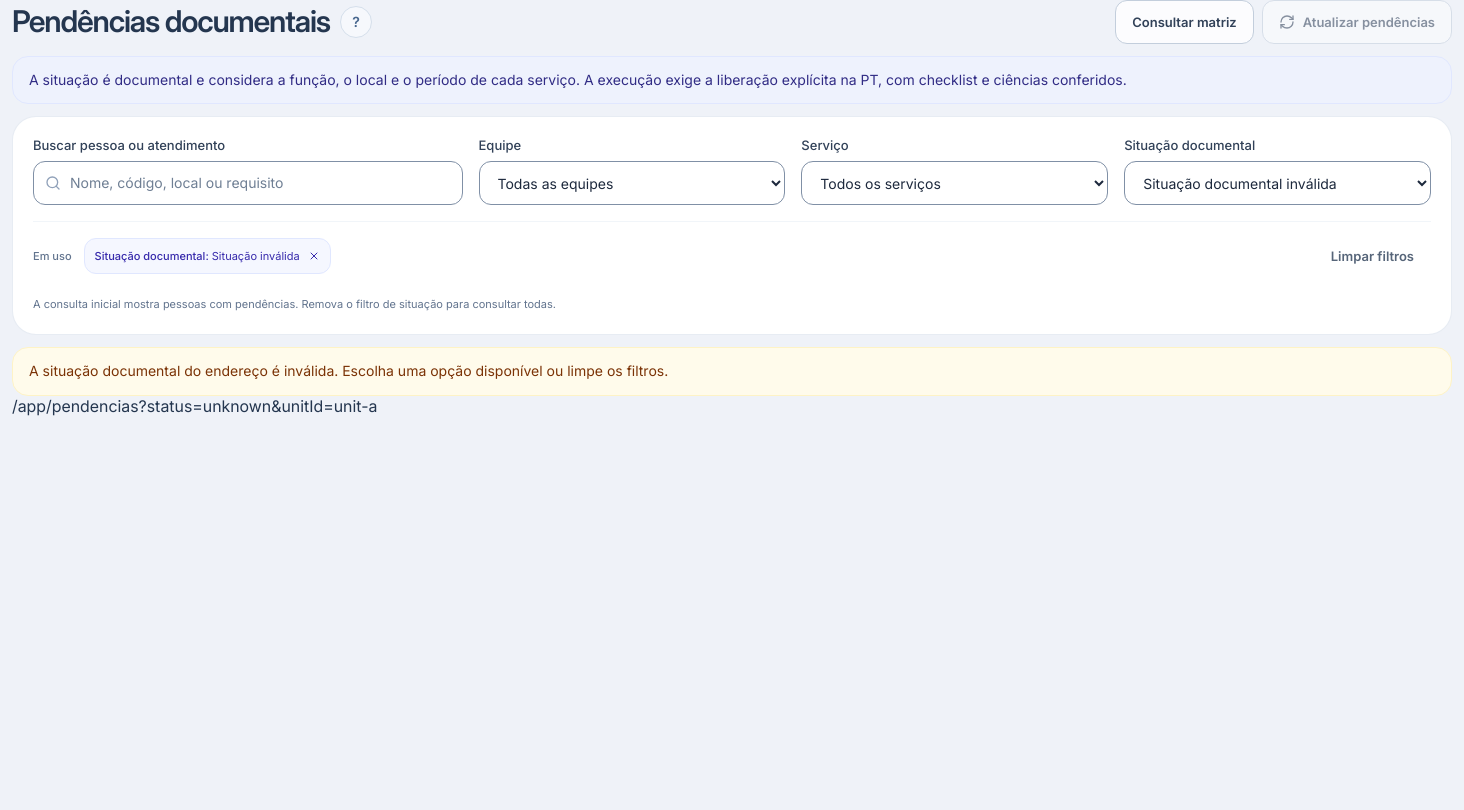
it: painel de pendências documentais › bloqueia a consulta e exportação até corrigir os critérios: status=unknown
expect the button "Atualizar pendências" is disabled: met, box [1262,0,1452,44]
expect the button "Exportar consulta CSV" is not shown: met
What coordinates should you click on to do the following:
click the button "Limpar filtros"
I would click on:
 (1372, 256)
Its box is [1314,234,1431,278].
(page scrolled)
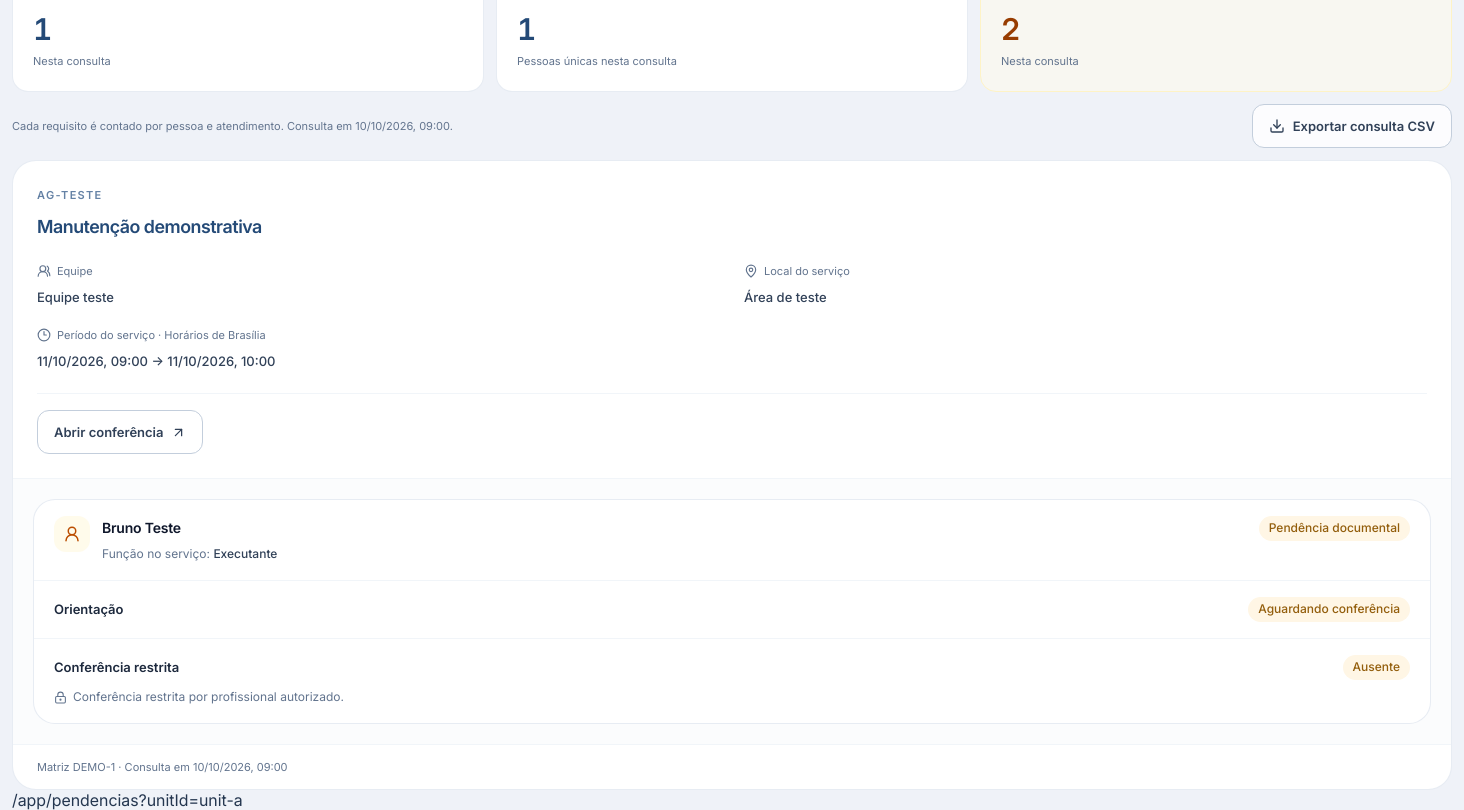
expect the heading "Bruno Teste" is shown: met, box [102,519,181,536]
expect the text named "Endereço atual" reads "/app/pendencias?unitId=unit-a": met, box [12,790,243,809]
